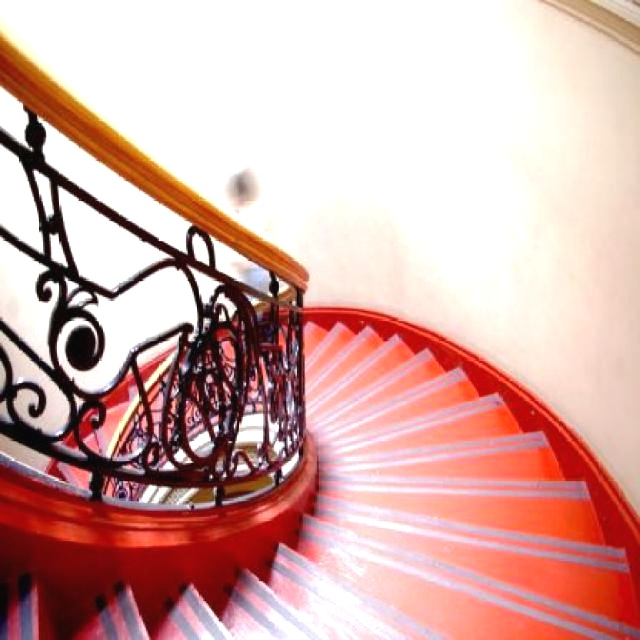stair: (0, 321, 640, 640)
